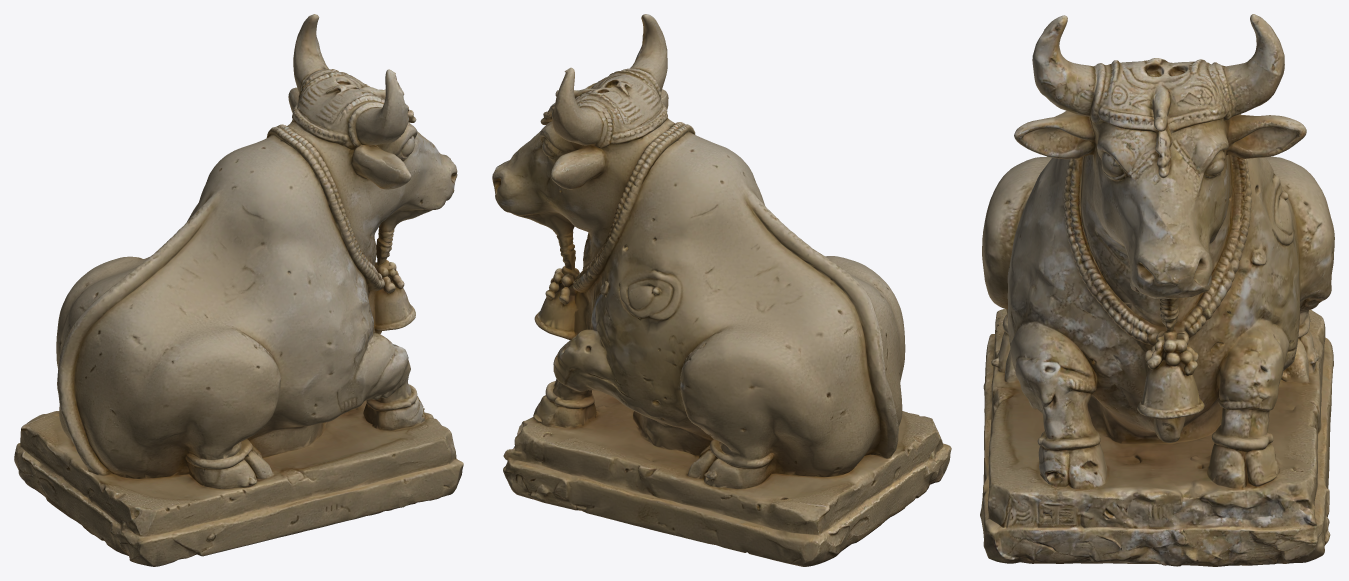
The model's file is nandi.glb.
3 renders of one model, left to right at view 1: azimuth 30°, elevation 25°; view 2: azimuth 150°, elevation 25°; view 3: azimuth 270°, elevation 25°, orthographic. The views are drawn at different scales.
Parts seen in each view (by area): view 1: tripo_node_86295cc9-fb60-4ccf-8d8d-9fbdd05bf6ca; view 2: tripo_node_86295cc9-fb60-4ccf-8d8d-9fbdd05bf6ca; view 3: tripo_node_86295cc9-fb60-4ccf-8d8d-9fbdd05bf6ca.
Boxes of the visible parts, x1,y1,x2,y2 form: tripo_node_86295cc9-fb60-4ccf-8d8d-9fbdd05bf6ca: (14,14,463,566); tripo_node_86295cc9-fb60-4ccf-8d8d-9fbdd05bf6ca: (492,14,951,566); tripo_node_86295cc9-fb60-4ccf-8d8d-9fbdd05bf6ca: (980,14,1334,566).
Bounding box in the file's own units: 1 × 0.9999 × 0.6124.
1 material, 1 textured.
